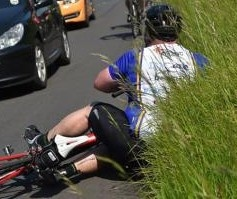falling: (15, 1, 223, 194)
